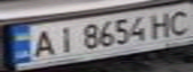4: (127, 12, 151, 43)
5: (112, 16, 136, 46)
6: (97, 17, 118, 48)
8: (78, 20, 103, 51)
A: (24, 27, 60, 60)
C: (163, 6, 193, 36)
H: (145, 8, 178, 39)
I: (51, 24, 78, 55)
